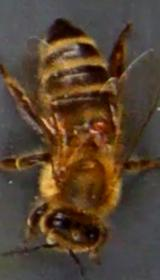varroa_mite: (80, 116, 119, 138)
